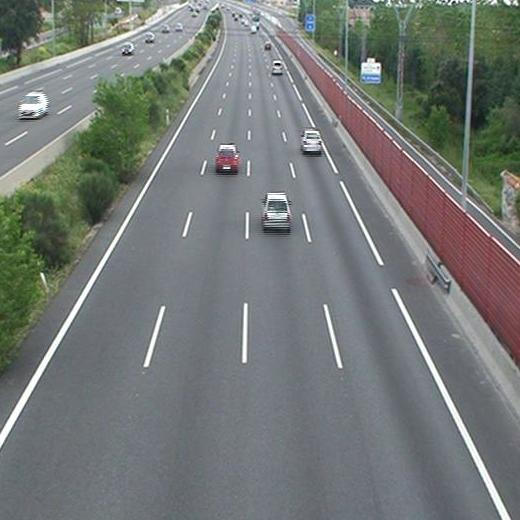car: (262, 194, 292, 229), (216, 145, 238, 170), (301, 130, 323, 151), (271, 61, 283, 73), (264, 42, 270, 50)
